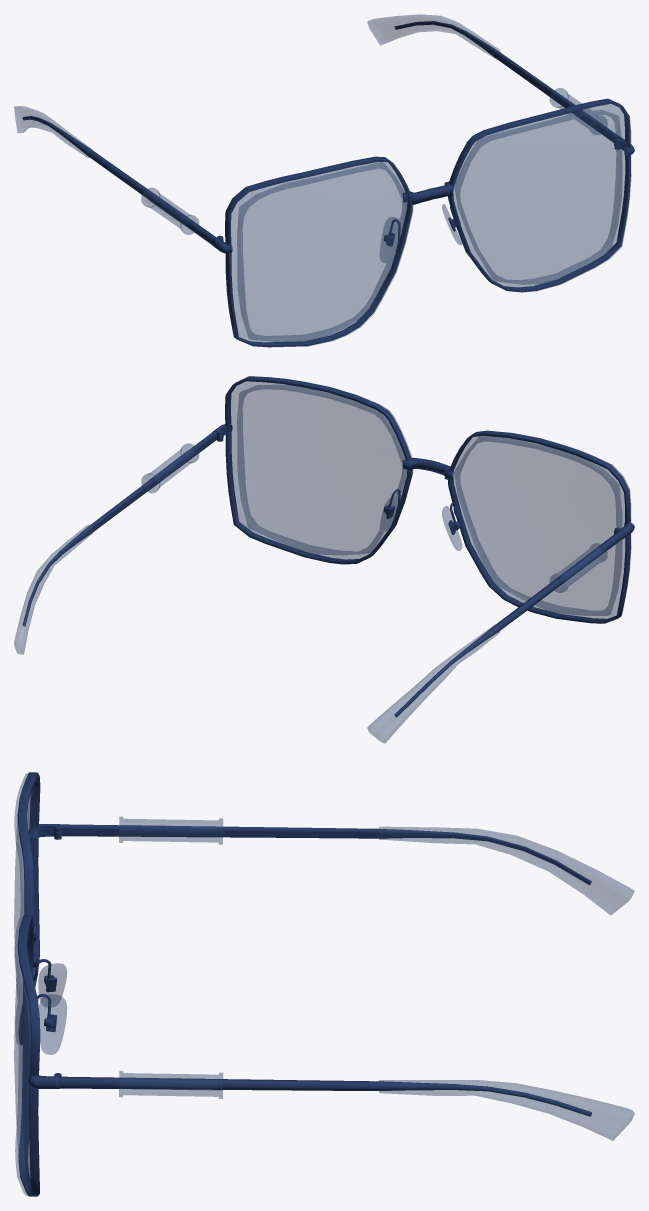
The model's file is kare-cerceve-gece-mavisi.glb.
3 renders of one model, top to bottom at view 1: azimuth 30°, elevation 25°; view 2: azimuth 150°, elevation 25°; view 3: azimuth 270°, elevation 25°, orthographic. The views are drawn at different scales.
Visible parts, largest first — view 1: OPTIK_PRODUCT_285; view 2: OPTIK_PRODUCT_285; view 3: OPTIK_PRODUCT_285.
Boxes of the visible parts, x1,y1,x2,y2 form: OPTIK_PRODUCT_285: (14, 14, 634, 347); OPTIK_PRODUCT_285: (14, 376, 634, 743); OPTIK_PRODUCT_285: (14, 772, 634, 1196).
Size of the model in its own units: 0.1621 by 0.0627 by 0.1604.
